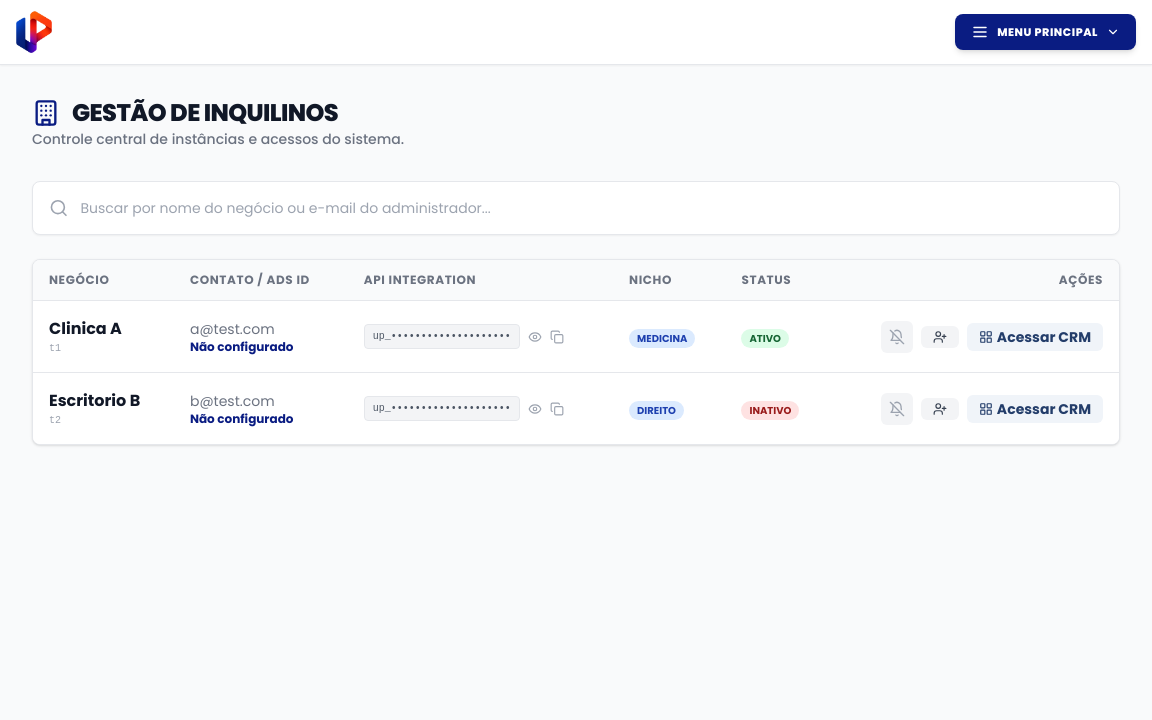
Test: TenantsPage › deve abrir modal de convite de usuário com tenant_id correto
Click the button titled "Adicionar Usuário" in the row of "Clinica A". click: click(940, 336)
box: [921,326,959,348]
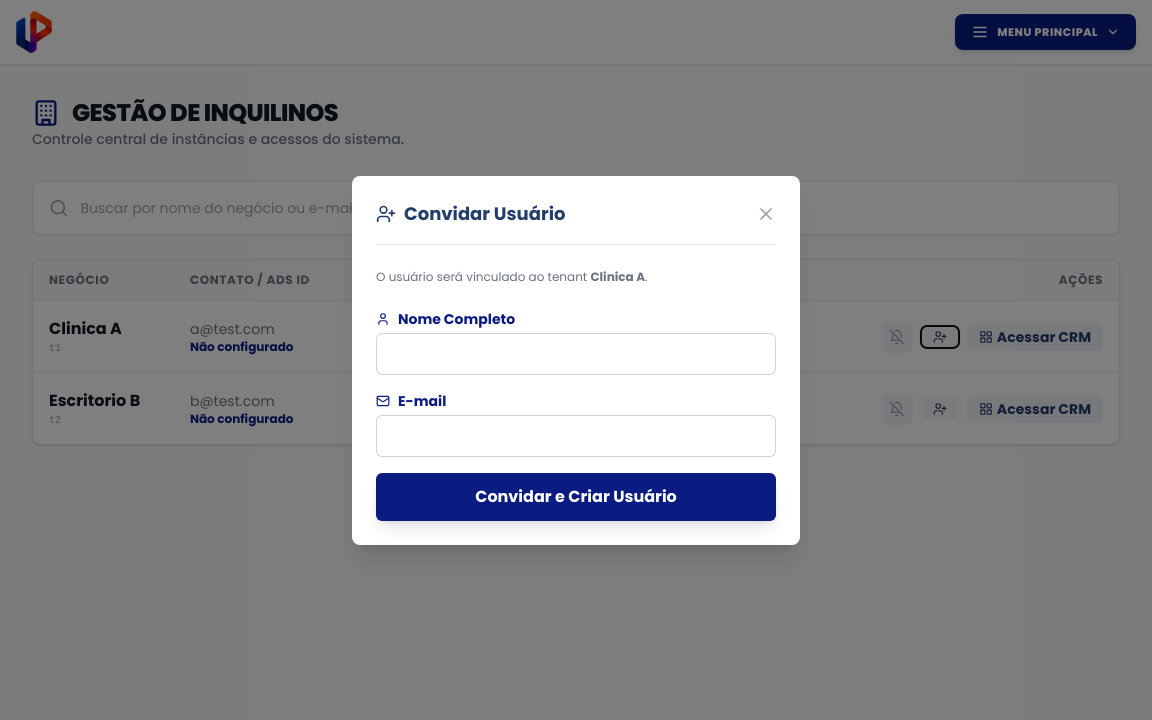
Expected: the text "Clinica A" next to "a@test.com" is shown, [49,317,122,340]
Expected: the heading "Convidar Usuário" is shown, [376,200,565,228]
